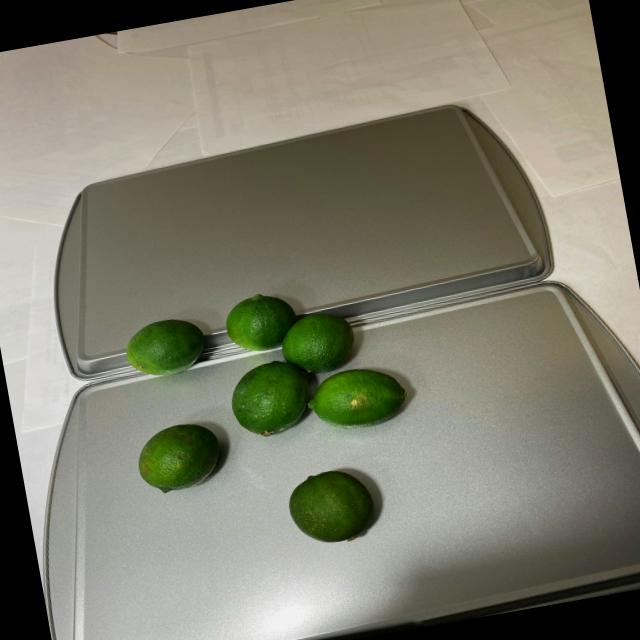lemon: (108, 270, 434, 582)
